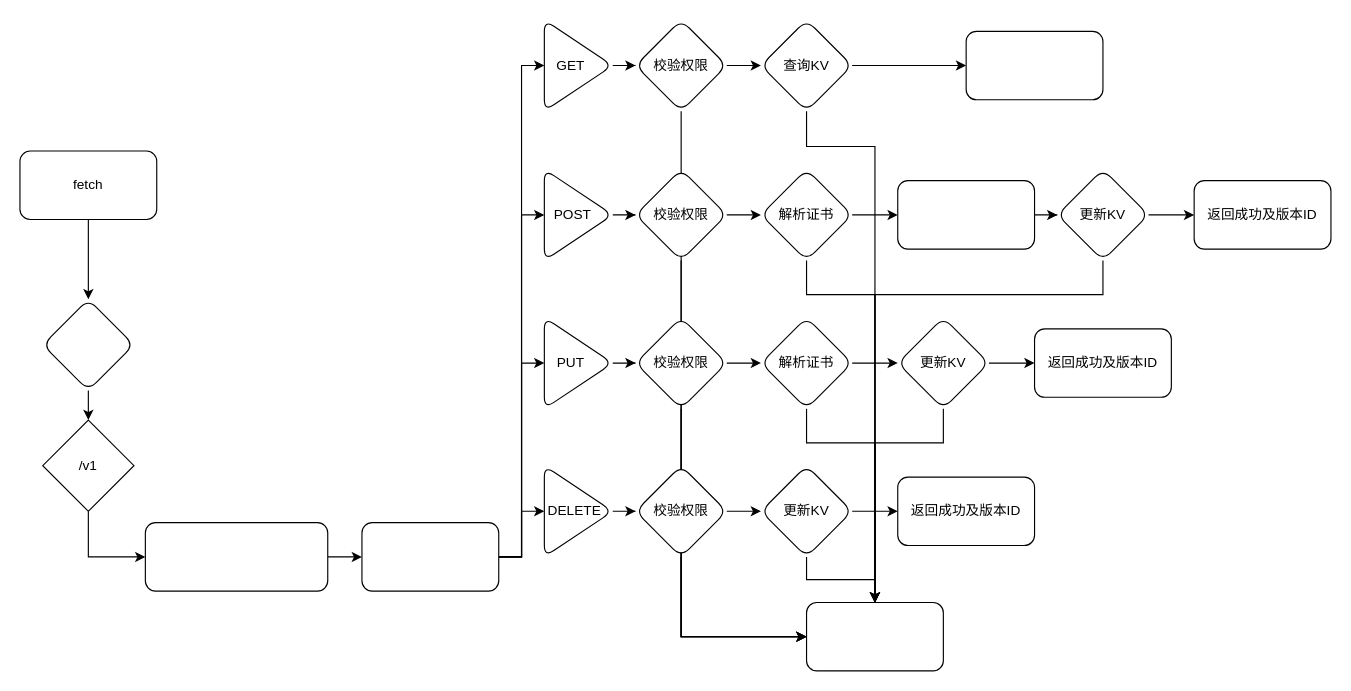
The diagram is 1351 pixels wide and 691 high, and some of its shapes have lost their labels. Each missing label, with the centre of its shape:
"/<domainname>/<?version>" goes at point 236,556.
"Router" goes at point 88,344.
"生成版本ID" goes at point 966,214.
"解析 域名&版本" goes at point 430,556.
"返回失败及错误" goes at point 874,636.
"返回证书信息" goes at point 1034,65.
